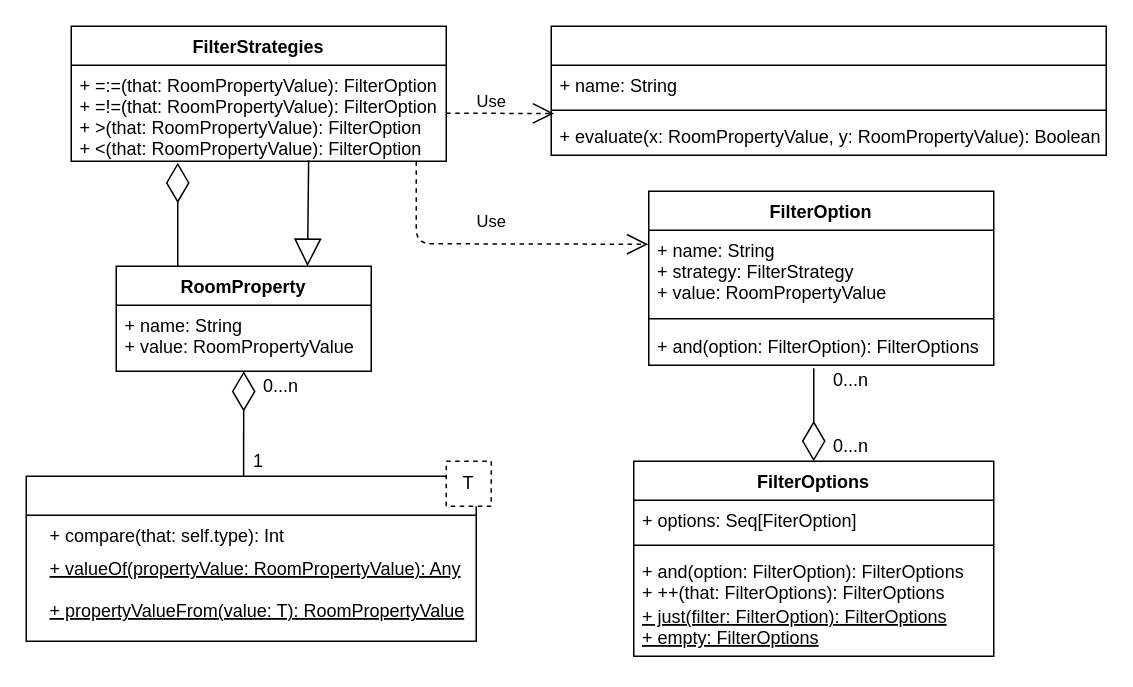
The diagram is 1133 pixels wide and 687 high, and some of its shapes have lost their labels. Here are the shapes that lost their labels. From the top down, the box of each, then its label:
(550, 25, 1106, 155): FilterStrategy
(25, 475, 476, 641): RoomPropertyValue
